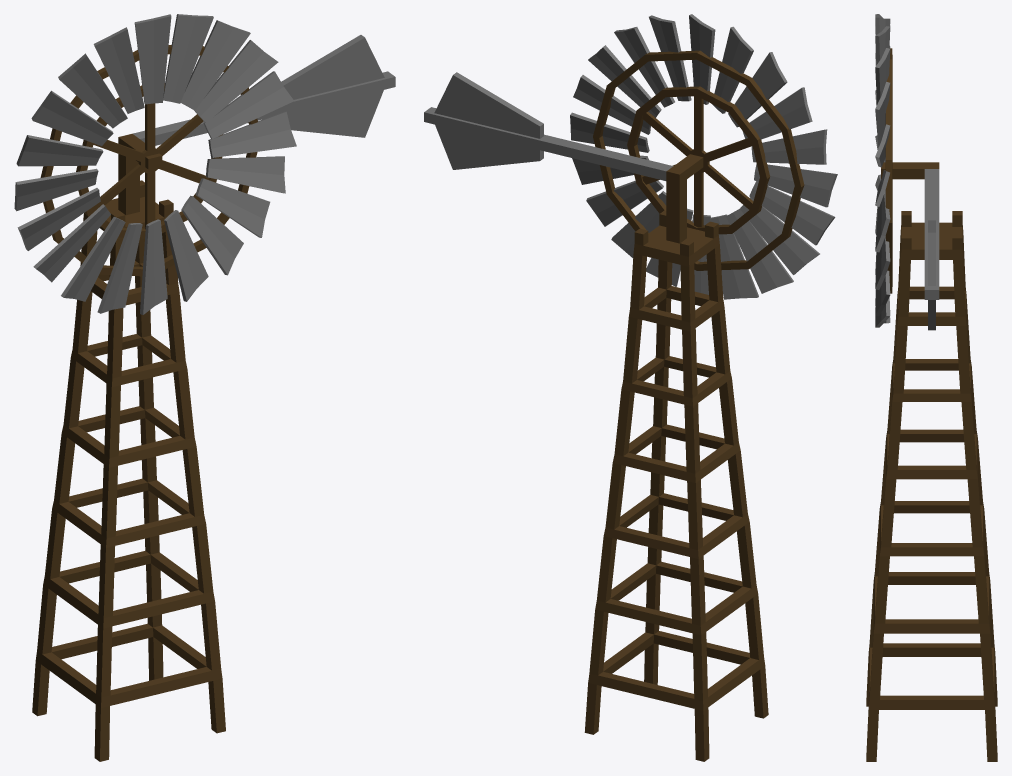
Rendered from Windmill.fbx.
The picture shows the model from 3 angles, left to right: view 1: azimuth 30°, elevation 25°; view 2: azimuth 150°, elevation 25°; view 3: azimuth 270°, elevation 25°; orthographic projection. The views are drawn at different scales.
Visible parts, largest first — view 1: WindmillStructure, WindmillBlades; view 2: WindmillStructure, WindmillBlades; view 3: WindmillStructure, WindmillBlades.
Boxes of the visible parts, left/top/right/bottom form: WindmillStructure: left=32, top=35, right=395, bottom=761; WindmillBlades: left=14, top=14, right=296, bottom=314; WindmillStructure: left=424, top=72, right=768, bottom=761; WindmillBlades: left=570, top=14, right=837, bottom=299; WindmillStructure: left=866, top=162, right=997, bottom=761; WindmillBlades: left=875, top=14, right=892, bottom=327.
Bounding box in the file's own units: 6.52 × 11.19 × 1.9.
